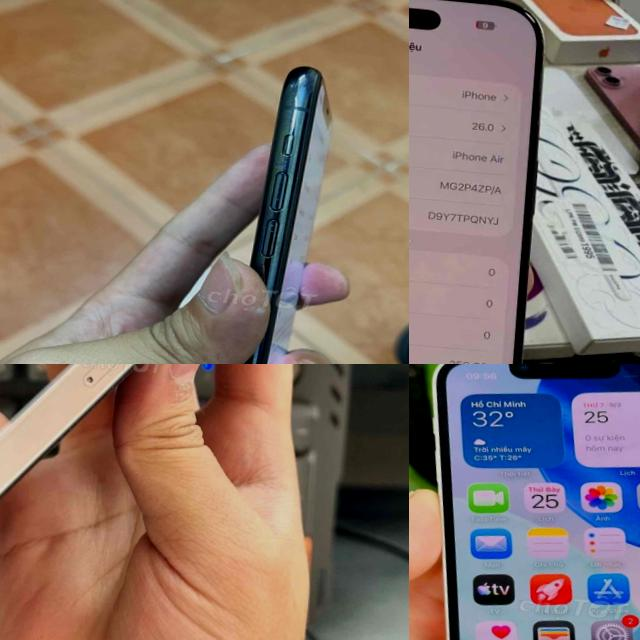scratch: (246, 110, 318, 289)
